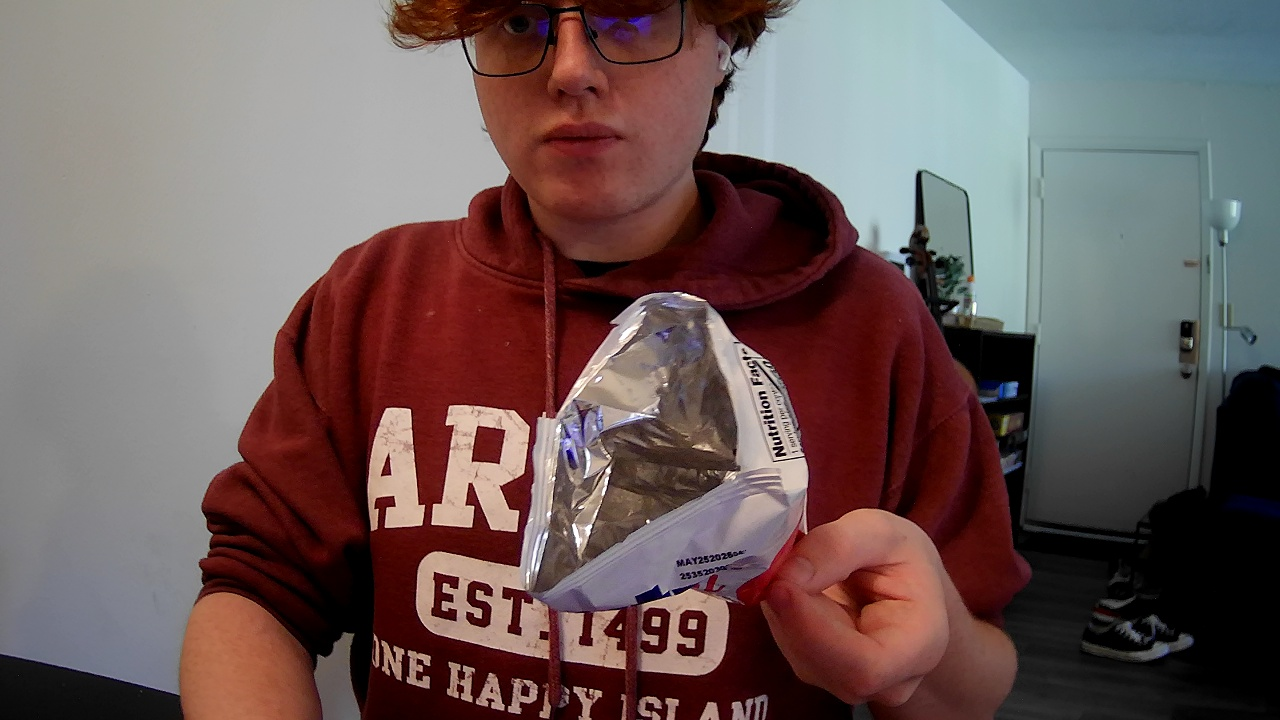trash: (508, 273, 909, 663)
